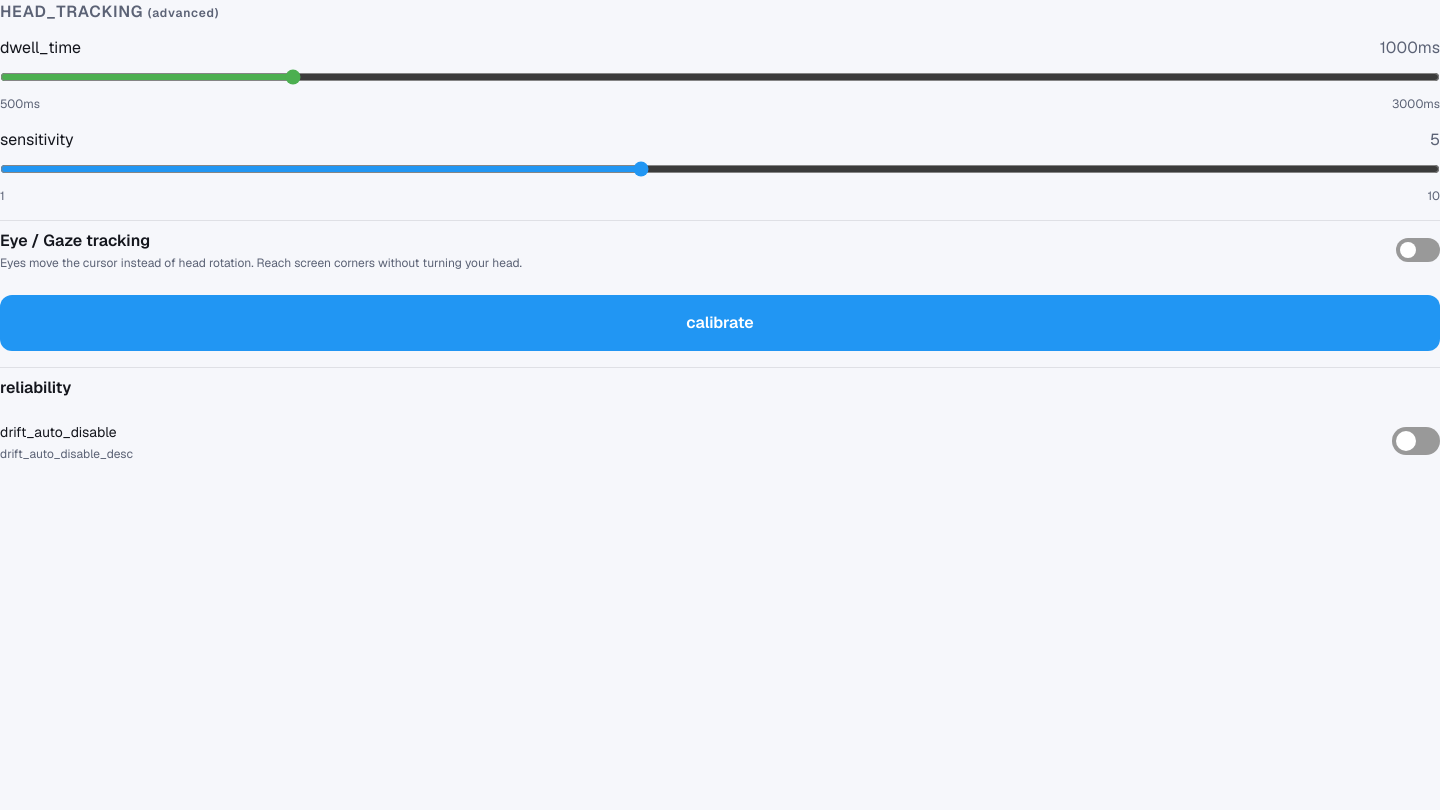
Test: HeadTrackingSettings — calibration flow › calibration overlay disappears after completing all 4 steps
Step 1. Click the button "calibrate" → [720, 323], box [0,295,1439,351]
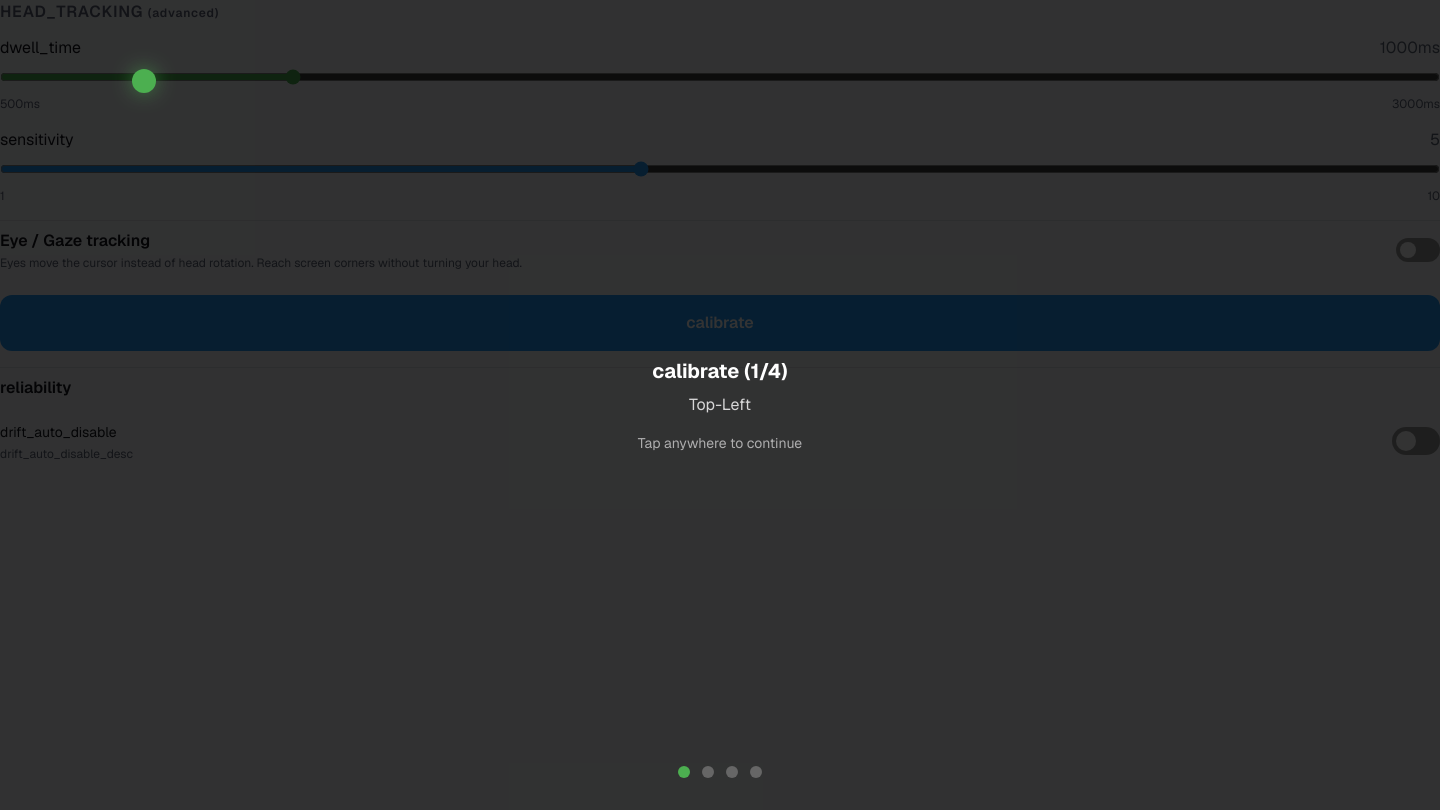
Step 2. Click the text "calibrate (1/4) Top-Left Tap anywhere to continue" → [720, 405], box [638,357,802,453]
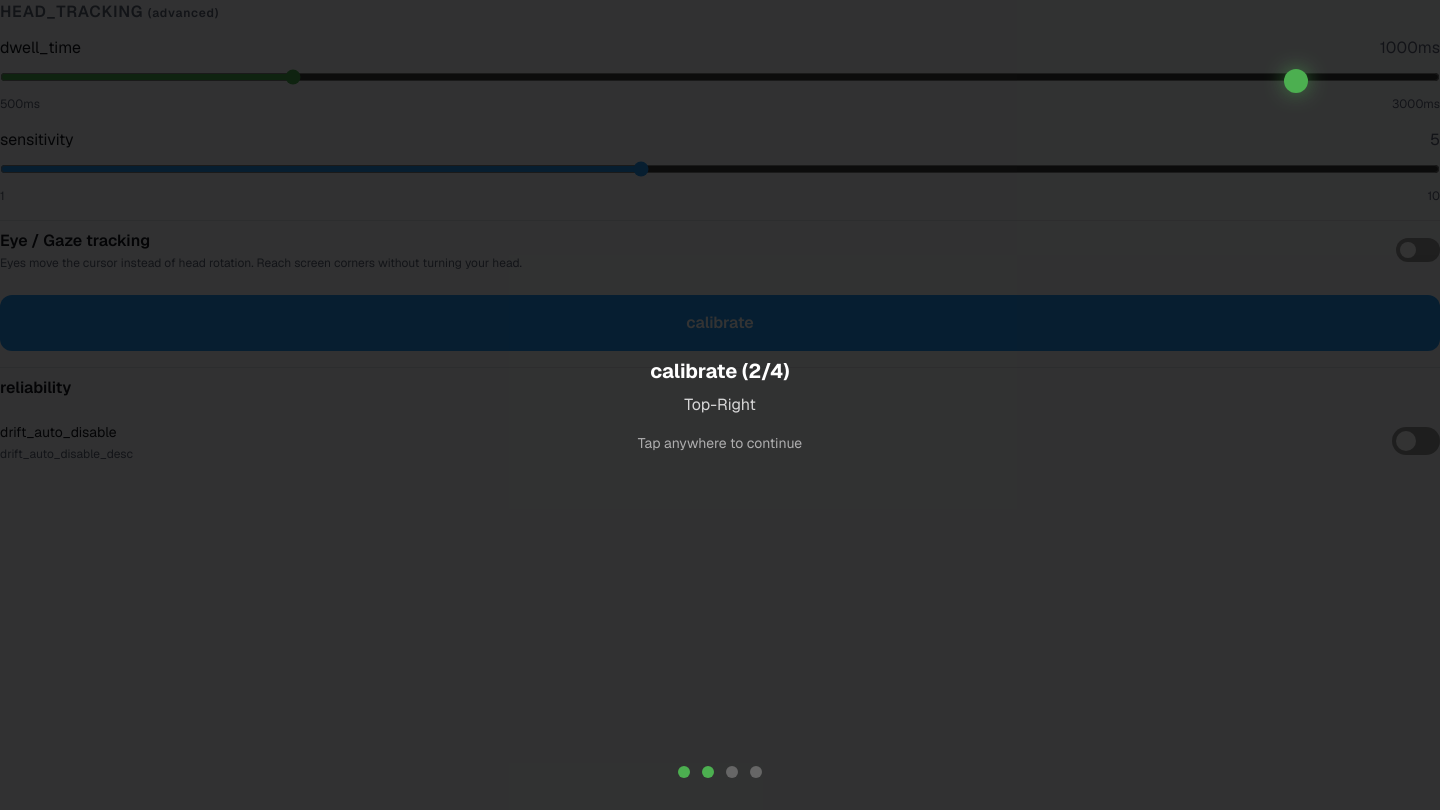
Step 3. Click the text "calibrate (2/4) Top-Right Tap anywhere to continue" → [720, 405], box [638,357,802,453]
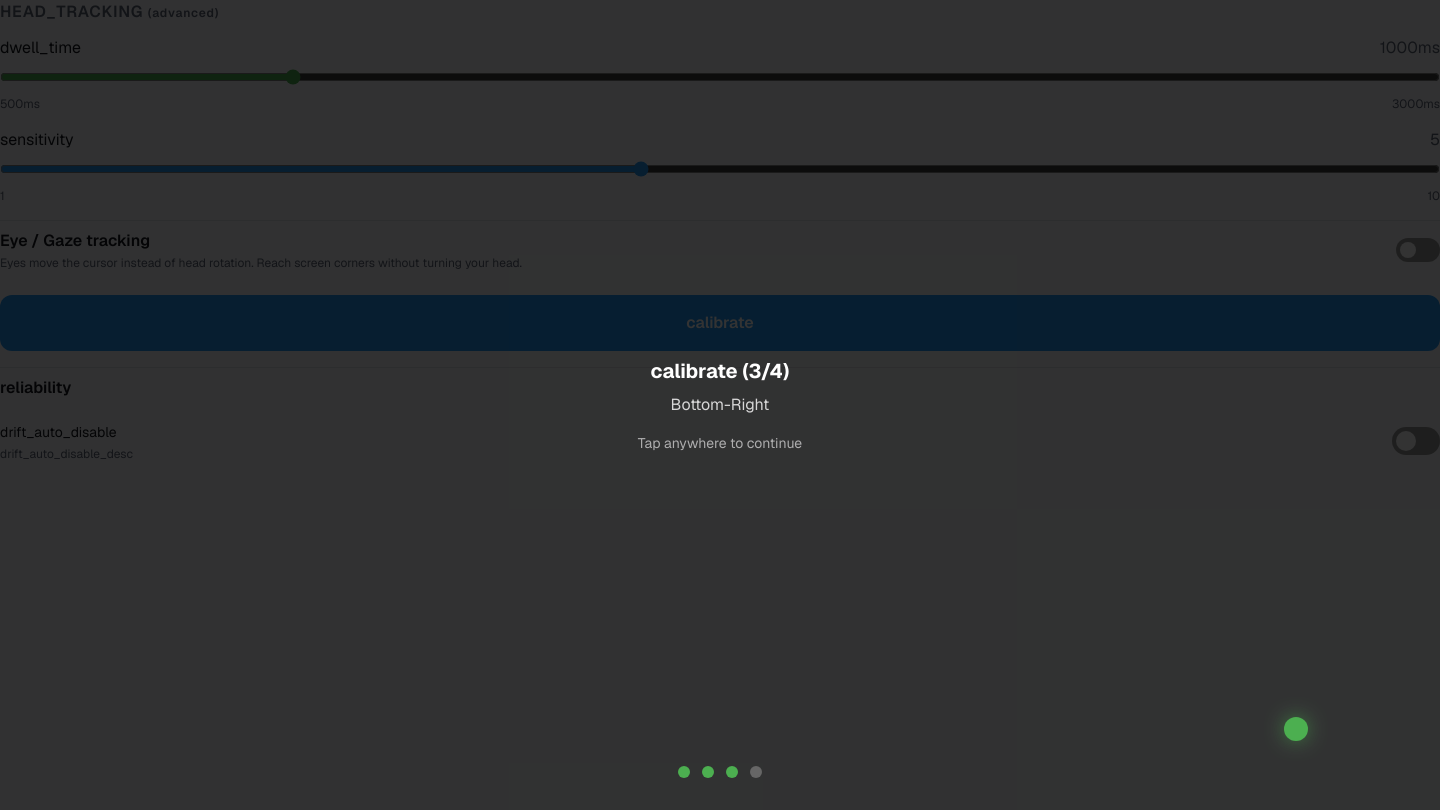
Step 4. Click the text "calibrate (3/4) Bottom-Right Tap anywhere to continue" → [720, 405], box [638,357,802,453]
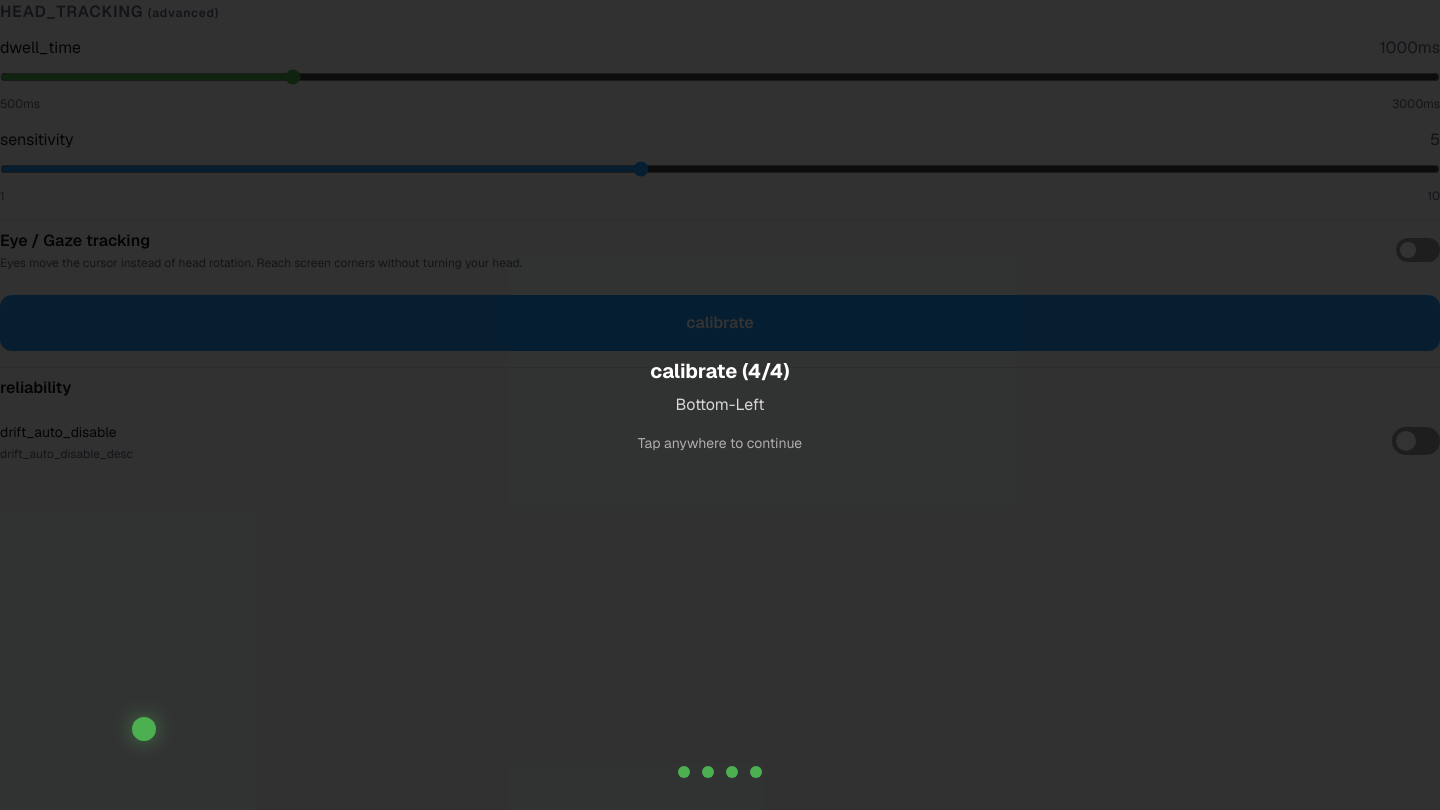
Step 5. Click the text "calibrate (4/4) Bottom-Left Tap anywhere to continue" → [720, 405], box [638,357,802,453]
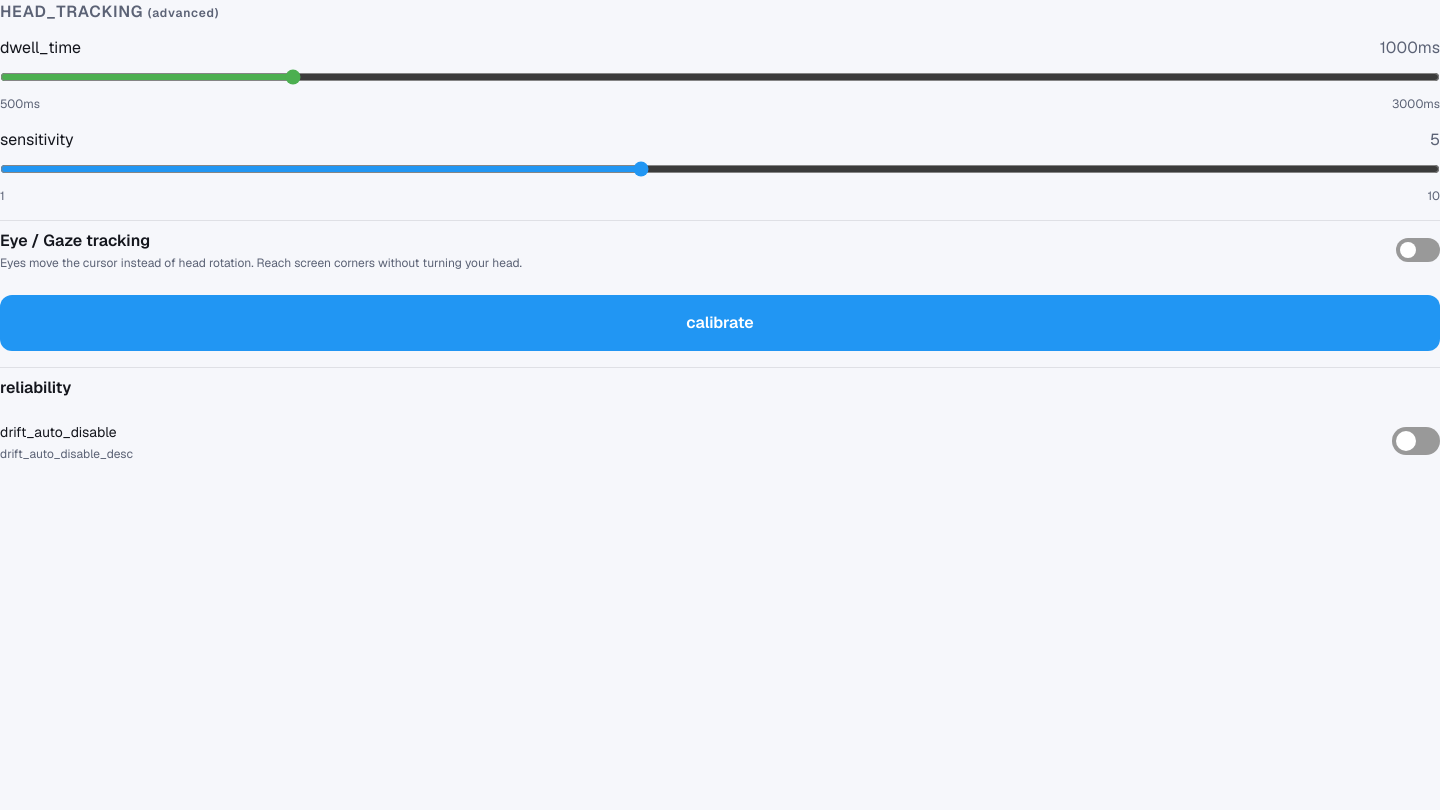
Expected: the text "Tap anywhere" is gone
